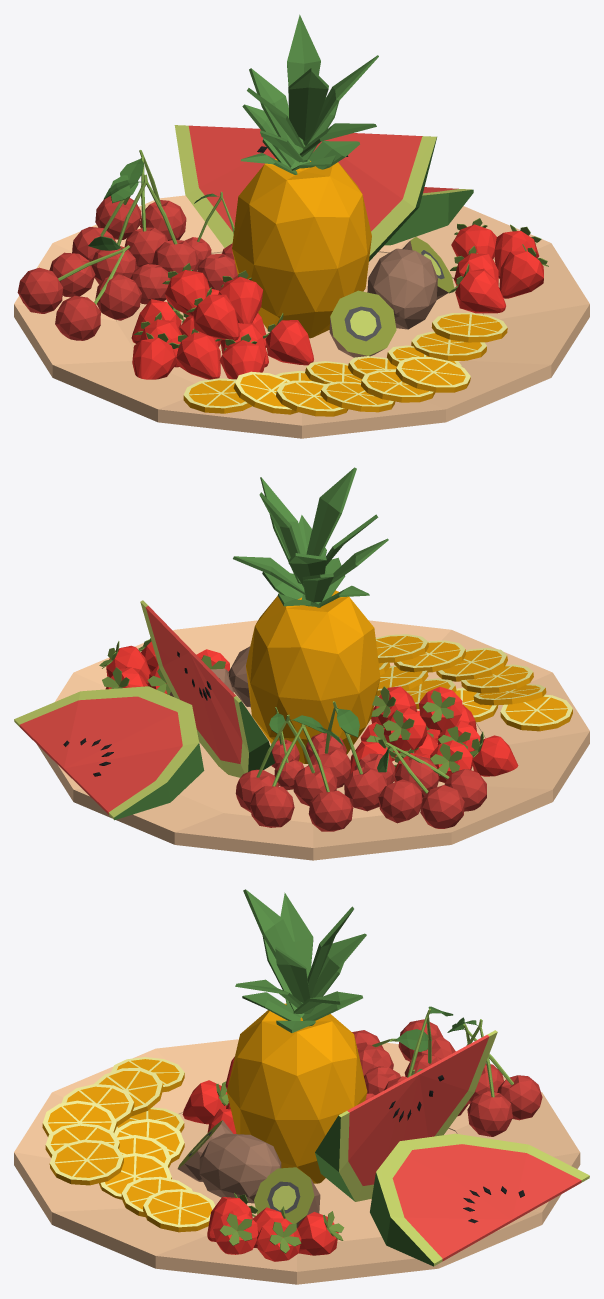
Rendered from Fruits_plate_02.fbx.
3 renders of one model, top to bottom at view 1: azimuth 30°, elevation 25°; view 2: azimuth 150°, elevation 25°; view 3: azimuth 270°, elevation 25°, orthographic. The views are drawn at different scales.
Visible parts, largest first — view 1: Fruits_plate_02; view 2: Fruits_plate_02; view 3: Fruits_plate_02.
Part boxes in pixels (<box>): Fruits_plate_02: <box>14,14,589,438</box>; Fruits_plate_02: <box>14,467,589,860</box>; Fruits_plate_02: <box>14,889,589,1284</box>.
Size of the model in its own units: 55.12 by 31.3 by 56.07.
